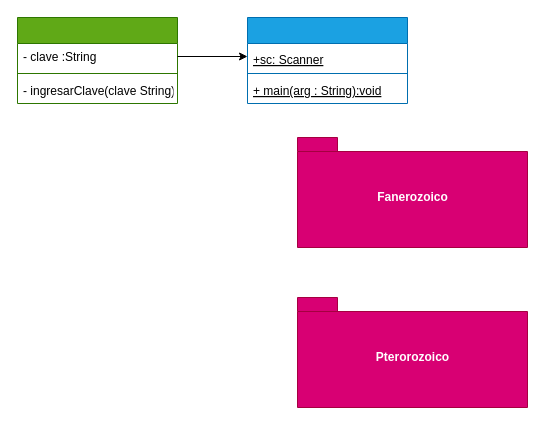
Some shapes in this 545 by 425 pixel diagram are drawn without their labels. Here are the shapes that lost their labels. From the top down, the box of each, then its label:
(16, 16, 178, 104): Biologo
(246, 16, 408, 104): App
